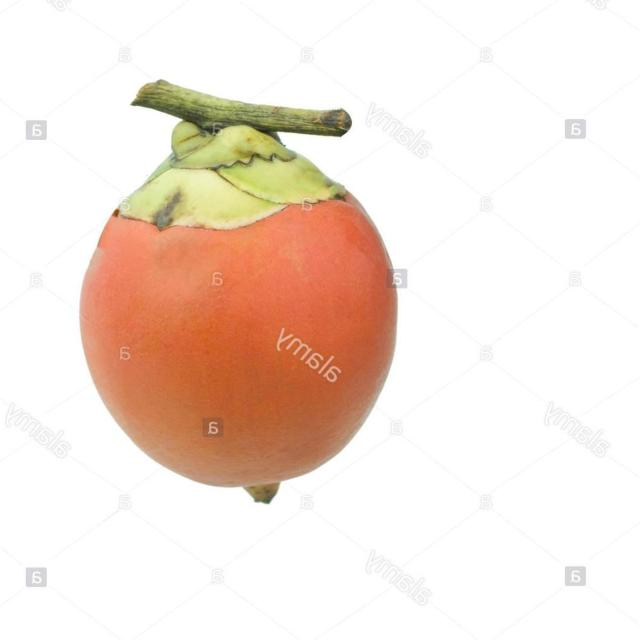good: (78, 121, 399, 496)
